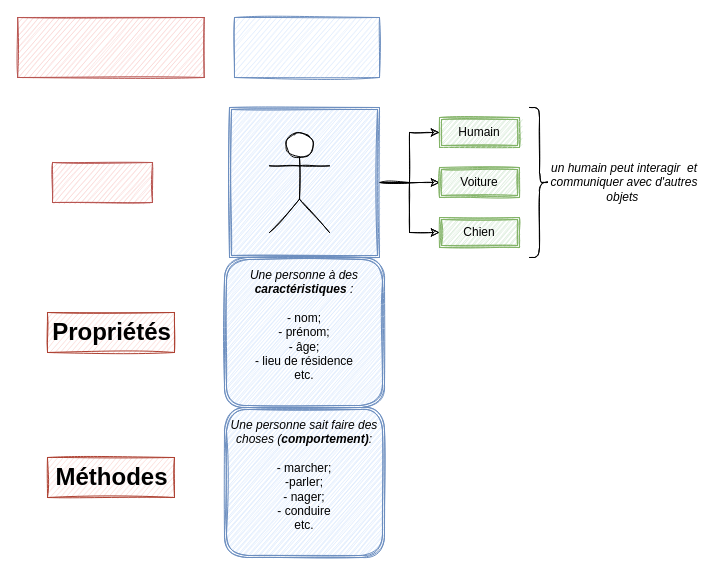
This 717x579 diagram has some shape labels left out. Here are the shapes that lost their labels. From the top down, the centre of each, then its label:
At pixel 110 47: "Programmation objet".
At pixel 307 47: "Monde réel".
At pixel 102 182: "Objet".
At pixel 299 182: "Personne".
